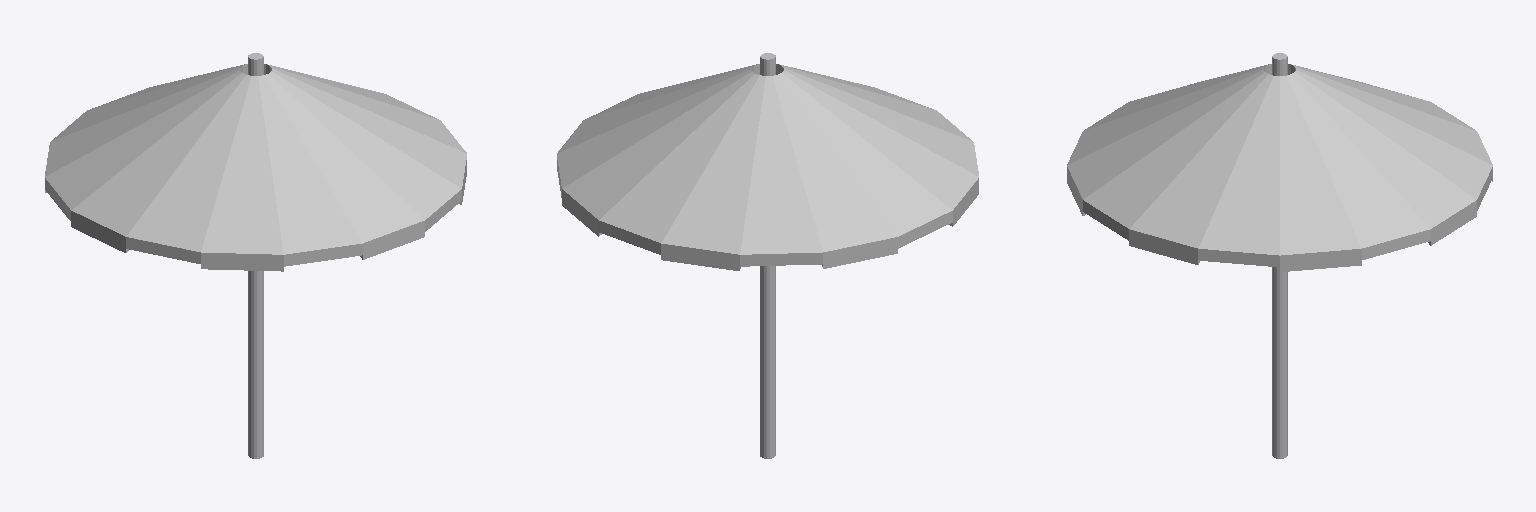
File: prop-umbrella.obj
3 views of the same model, side by side, from view 1: azimuth 30°, elevation 25°; view 2: azimuth 150°, elevation 25°; view 3: azimuth 270°, elevation 25° (orthographic).
Visible parts, largest first — view 1: Circle_Circle.005, Circle.001_Circle.006, Circle.002_Circle.007; view 2: Circle_Circle.005, Circle.001_Circle.006, Circle.002_Circle.007; view 3: Circle_Circle.005, Circle.001_Circle.006, Circle.002_Circle.007.
Boxes of the visible parts, box(x1,y1,x2,y2) form: Circle_Circle.005: box(45, 64, 466, 271); Circle.001_Circle.006: box(45, 64, 466, 266); Circle.002_Circle.007: box(248, 53, 263, 458); Circle_Circle.005: box(558, 64, 978, 270); Circle.001_Circle.006: box(557, 64, 978, 266); Circle.002_Circle.007: box(760, 53, 775, 458); Circle_Circle.005: box(1067, 64, 1492, 271); Circle.001_Circle.006: box(1067, 64, 1492, 267); Circle.002_Circle.007: box(1272, 53, 1287, 458).
Size of the model in its own units: 2 by 2.07 by 2.